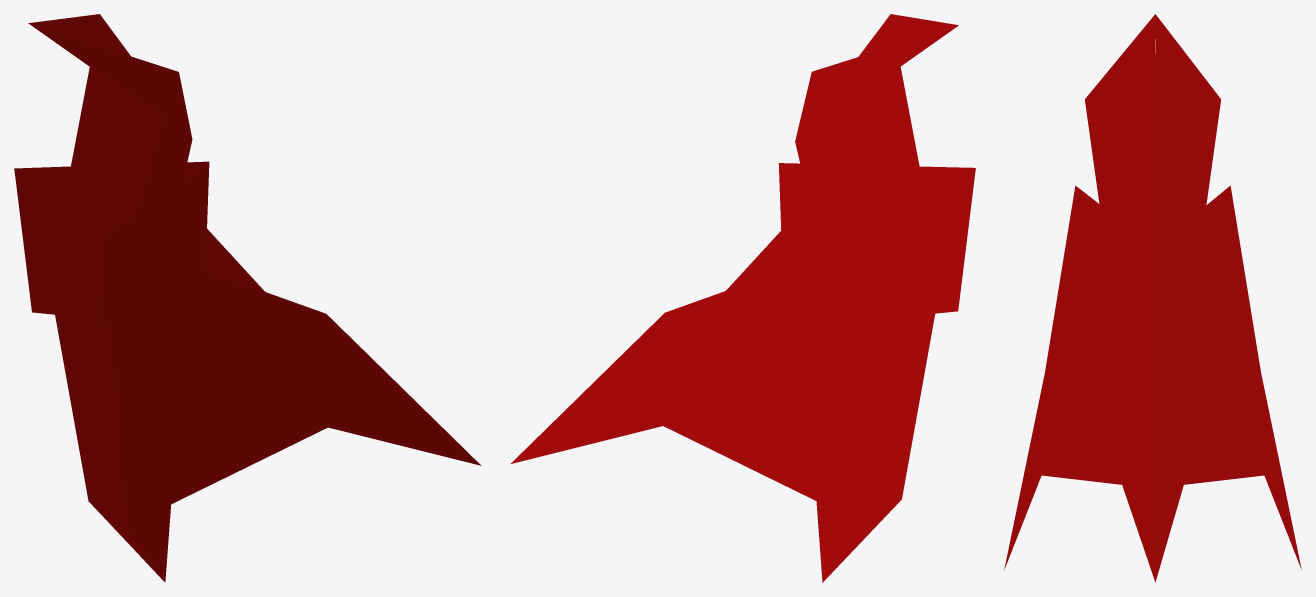
Rendered from pliage oiseau_test3.fbx.
3 renders of one model, left to right at view 1: azimuth 30°, elevation 25°; view 2: azimuth 150°, elevation 25°; view 3: azimuth 270°, elevation 25°, orthographic. The views are drawn at different scales.
Visible parts, largest first — view 1: Plane.001, Plane.002; view 2: Plane.002, Plane.001; view 3: Plane.001, Plane.002.
Boxes of the visible parts, left/top/right/bottom form: Plane.001: left=28, top=23, right=481, bottom=581; Plane.002: left=14, top=14, right=264, bottom=580; Plane.002: left=511, top=25, right=958, bottom=582; Plane.001: left=726, top=14, right=975, bottom=582; Plane.001: left=1004, top=14, right=1155, bottom=582; Plane.002: left=1154, top=14, right=1301, bottom=580.
Bounding box in the file's own units: 301 × 466 × 246.
